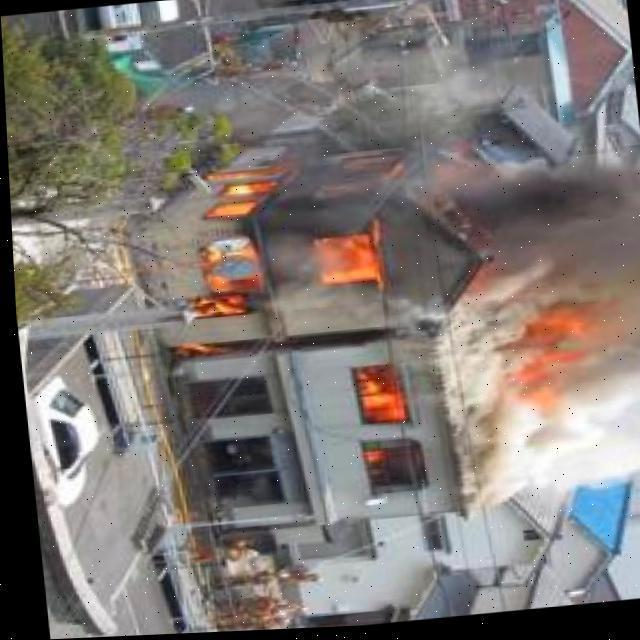fire: (156, 155, 452, 328), (500, 301, 624, 418), (336, 372, 401, 493)
